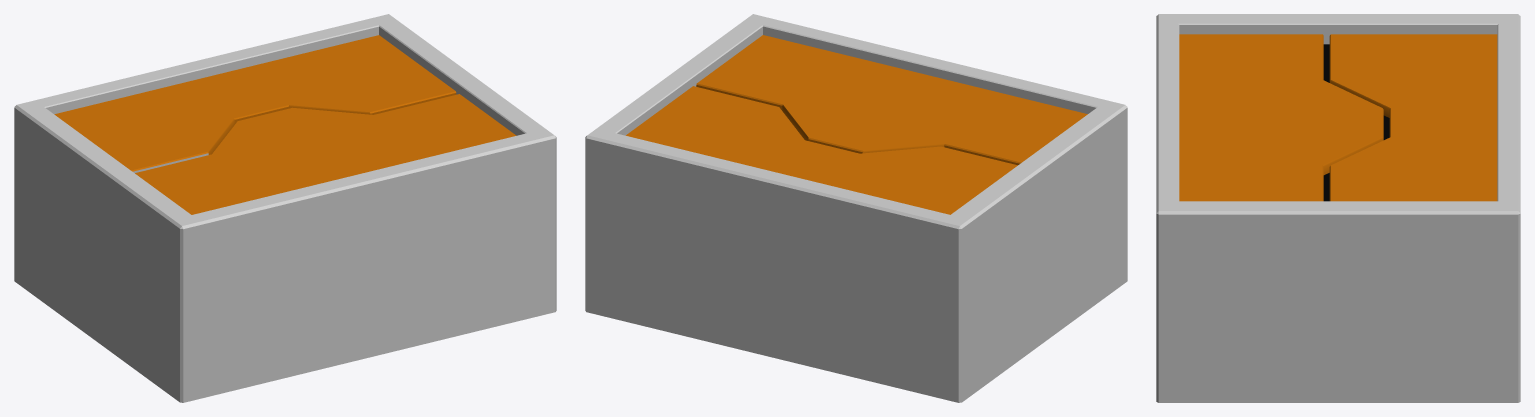
Rendered from Mini_Box.fbx.
3 renders of one model, left to right at view 1: azimuth 30°, elevation 25°; view 2: azimuth 150°, elevation 25°; view 3: azimuth 270°, elevation 25°, orthographic. The views are drawn at different scales.
Parts seen in each view (by area): view 1: Mini_Box; view 2: Mini_Box; view 3: Mini_Box.
Boxes of the visible parts, box(x1,y1,x2,y2) form: Mini_Box: box(14, 14, 556, 402); Mini_Box: box(585, 14, 1127, 402); Mini_Box: box(1156, 14, 1520, 402).
Bounding box in the file's own units: 1 × 0.7759 × 0.4481.
